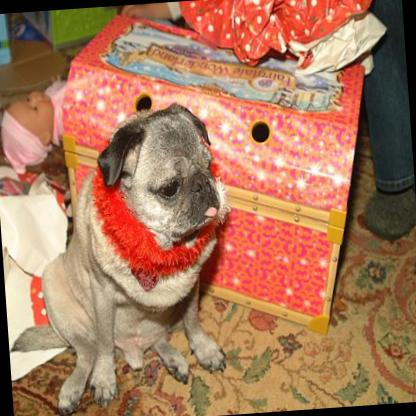pug: (0, 97, 244, 416)
